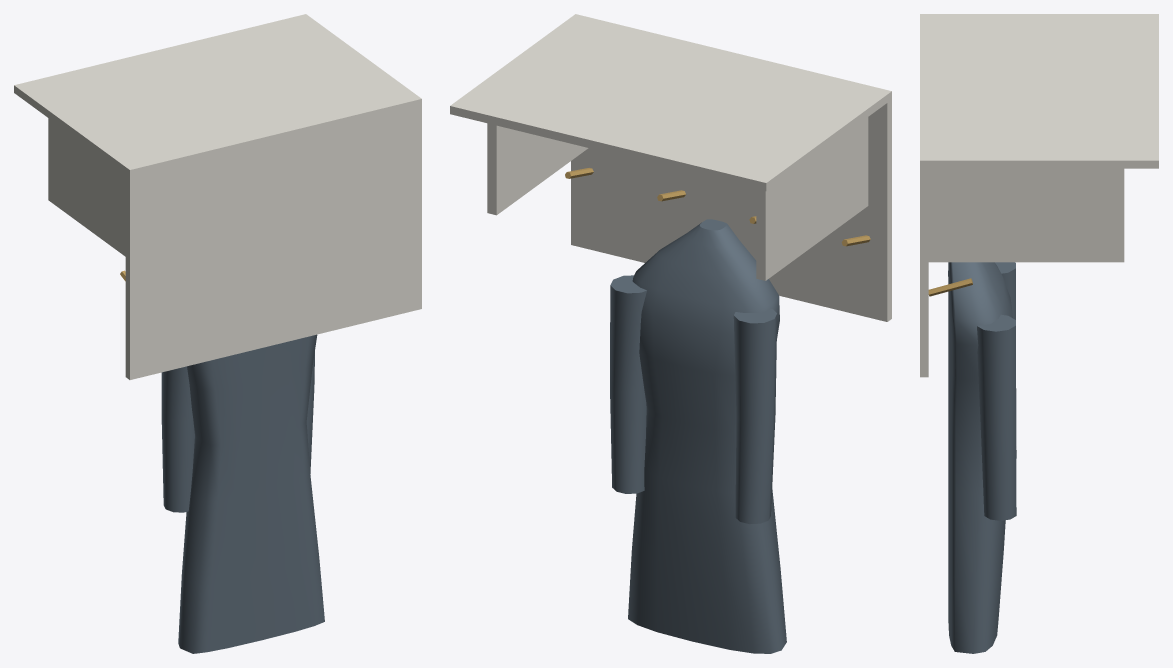
Rendered from parametric-wall-coat-rack-service-0800x0550x1950.glb.
The picture shows the model from 3 angles, left to right: view 1: azimuth 30°, elevation 25°; view 2: azimuth 150°, elevation 25°; view 3: azimuth 270°, elevation 25°; orthographic projection. The views are drawn at different scales.
Parts seen in each view (by area): view 1: backboard, coat:0, hat-shelf, bracket:-1, coat-sleeve:0:-1; view 2: coat:0, hat-shelf, backboard, bracket:-1, coat-sleeve:0:-1, coat-sleeve:0:1, bracket:1; view 3: hat-shelf, bracket:1, coat:0, coat-sleeve:0:1, backboard, coat-sleeve:0:-1.
Boxes of the visible parts, left/top/right/bottom form: backboard: left=125, top=106, right=421, bottom=379; coat:0: left=178, top=334, right=324, bottom=653; hat-shelf: left=14, top=14, right=421, bottom=177; bracket:-1: left=48, top=118, right=125, bottom=256; coat-sleeve:0:-1: left=161, top=366, right=194, bottom=512; coat:0: left=628, top=219, right=786, bottom=653; hat-shelf: left=450, top=14, right=891, bottom=191; backboard: left=571, top=100, right=891, bottom=321; bracket:-1: left=756, top=117, right=868, bottom=280; coat-sleeve:0:-1: left=733, top=309, right=777, bottom=524; coat-sleeve:0:1: left=610, top=275, right=646, bottom=493; bracket:1: left=487, top=123, right=588, bottom=215; hat-shelf: left=920, top=14, right=1158, bottom=168; bracket:1: left=928, top=168, right=1124, bottom=262; coat:0: left=948, top=262, right=1012, bottom=653; coat-sleeve:0:1: left=977, top=314, right=1016, bottom=520; backboard: left=920, top=168, right=928, bottom=377; coat-sleeve:0:-1: left=995, top=262, right=1016, bottom=458.
Bounding box in the file's own units: 0.8 × 1.35 × 0.55.
